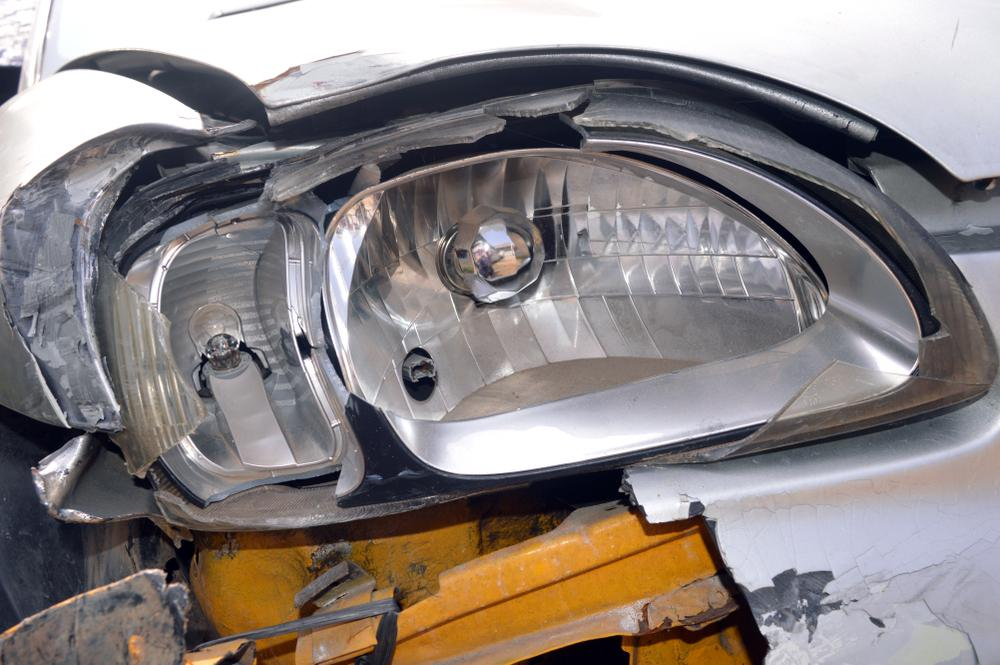lamp broken: (103, 75, 993, 515)
